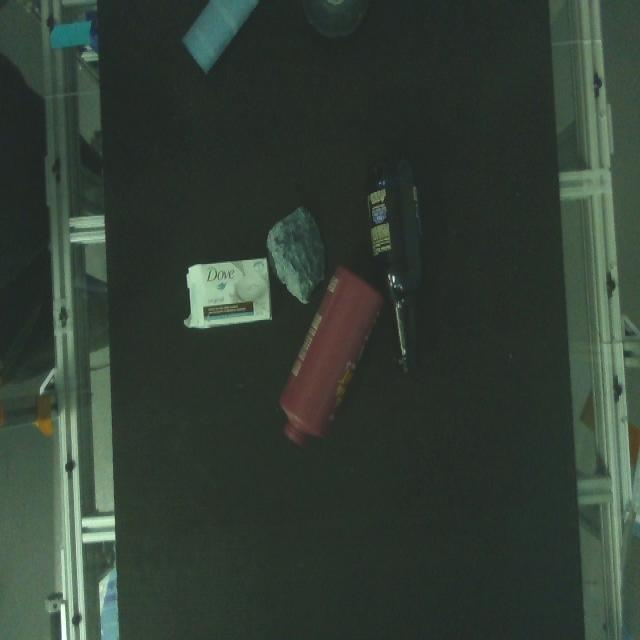non-paper: (270, 258, 390, 456), (356, 159, 434, 384), (263, 205, 333, 311), (298, 0, 374, 45)
paper: (172, 251, 278, 335), (176, 0, 269, 77)
